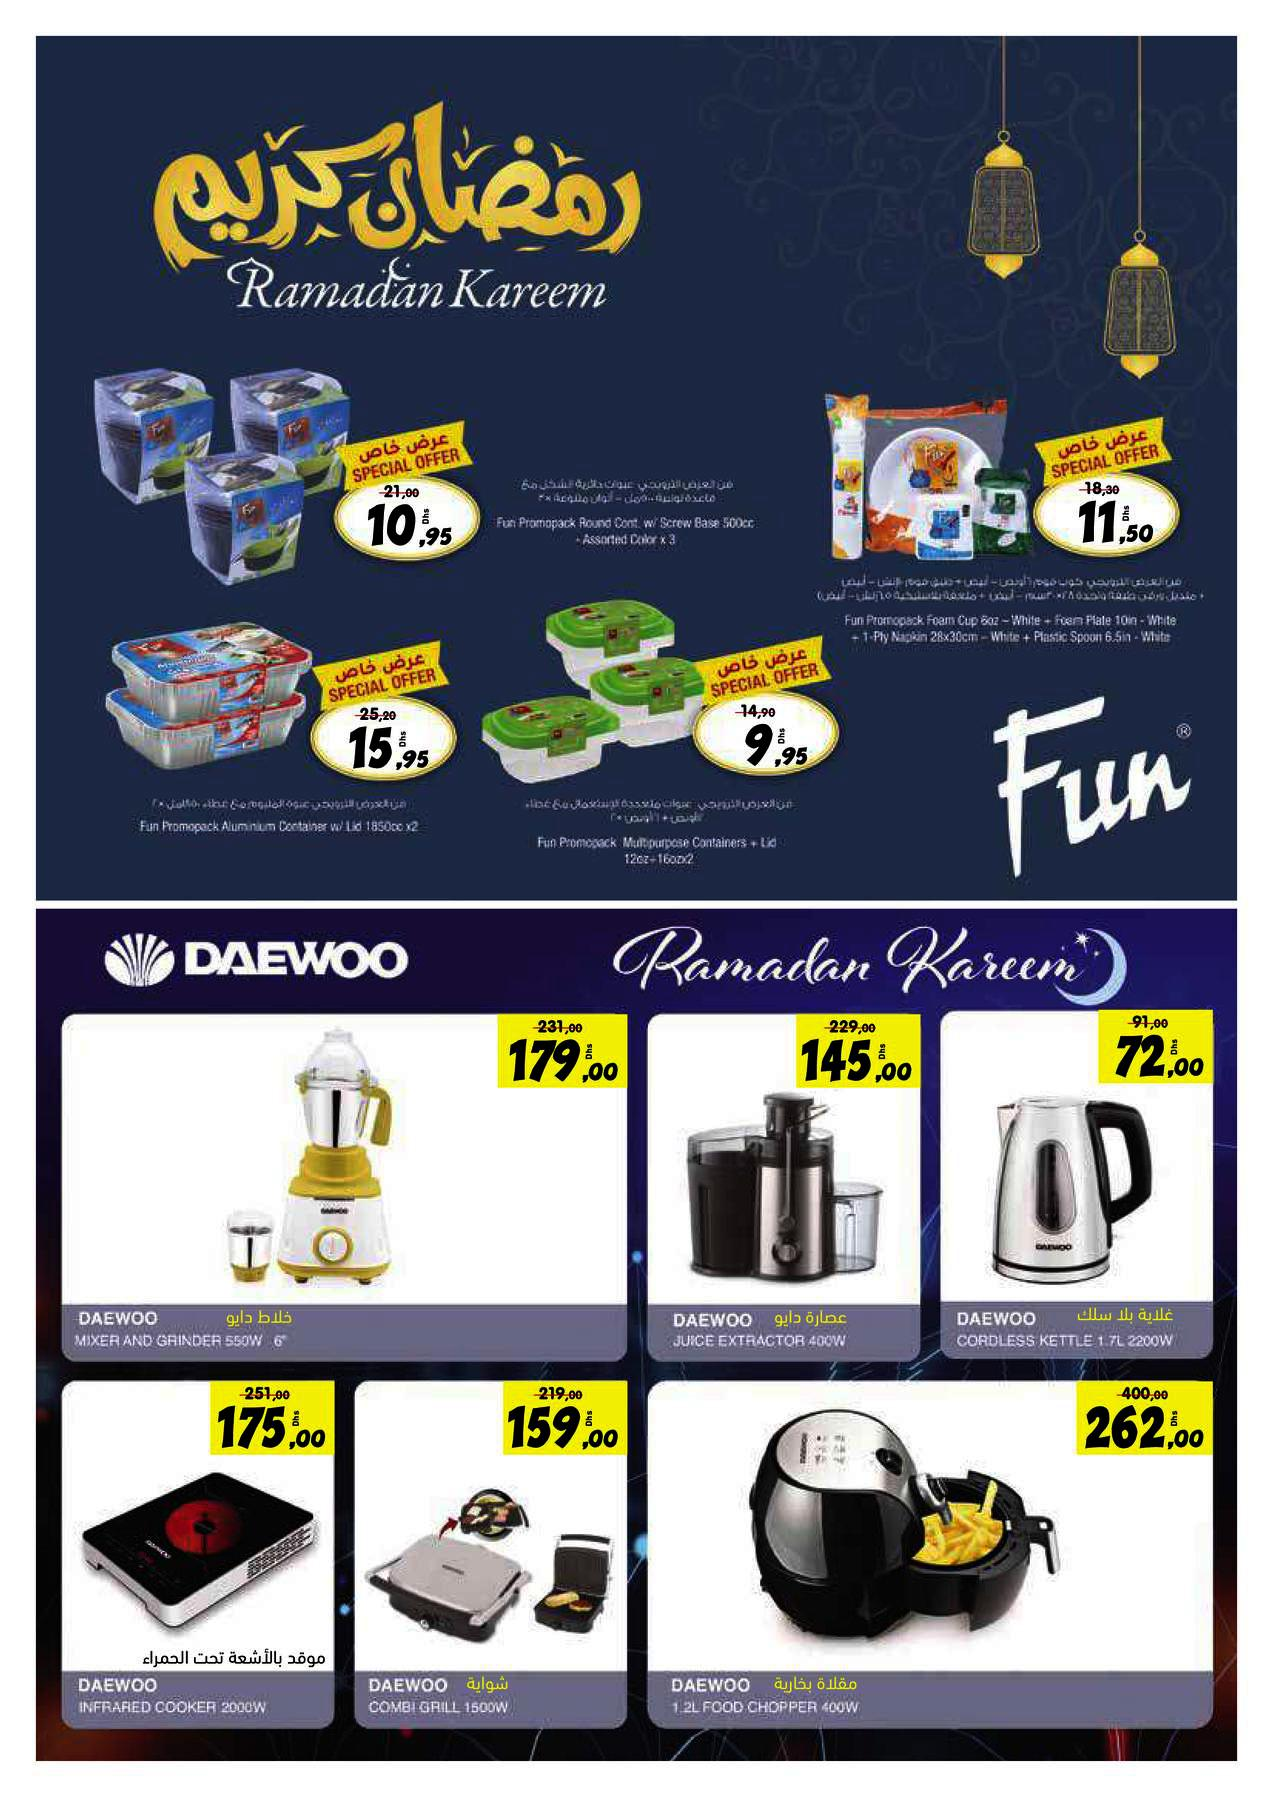text: (207, 253, 630, 320), (809, 573, 1214, 610), (838, 611, 1185, 649), (525, 832, 794, 875), (485, 510, 760, 550), (517, 793, 796, 829), (127, 817, 435, 846), (514, 472, 743, 511), (143, 791, 416, 817), (68, 1330, 303, 1352), (665, 1695, 871, 1720), (952, 1330, 1182, 1352), (141, 1644, 327, 1668), (665, 1330, 849, 1354), (366, 1695, 515, 1719), (1070, 1306, 1178, 1328), (951, 1308, 1044, 1332), (767, 1673, 869, 1694), (74, 1673, 161, 1697), (76, 1308, 167, 1330), (767, 1307, 853, 1330), (364, 1675, 455, 1695), (214, 1307, 303, 1328), (667, 1675, 756, 1695), (670, 1310, 754, 1330), (460, 1672, 515, 1695)
